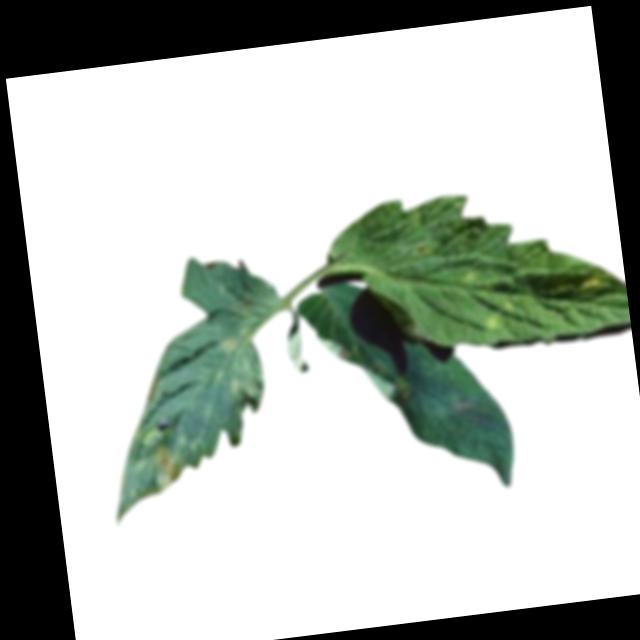Leaf_Mold: (318, 328, 409, 409), (214, 331, 269, 412), (134, 426, 183, 497), (478, 297, 522, 335), (572, 268, 603, 299)
